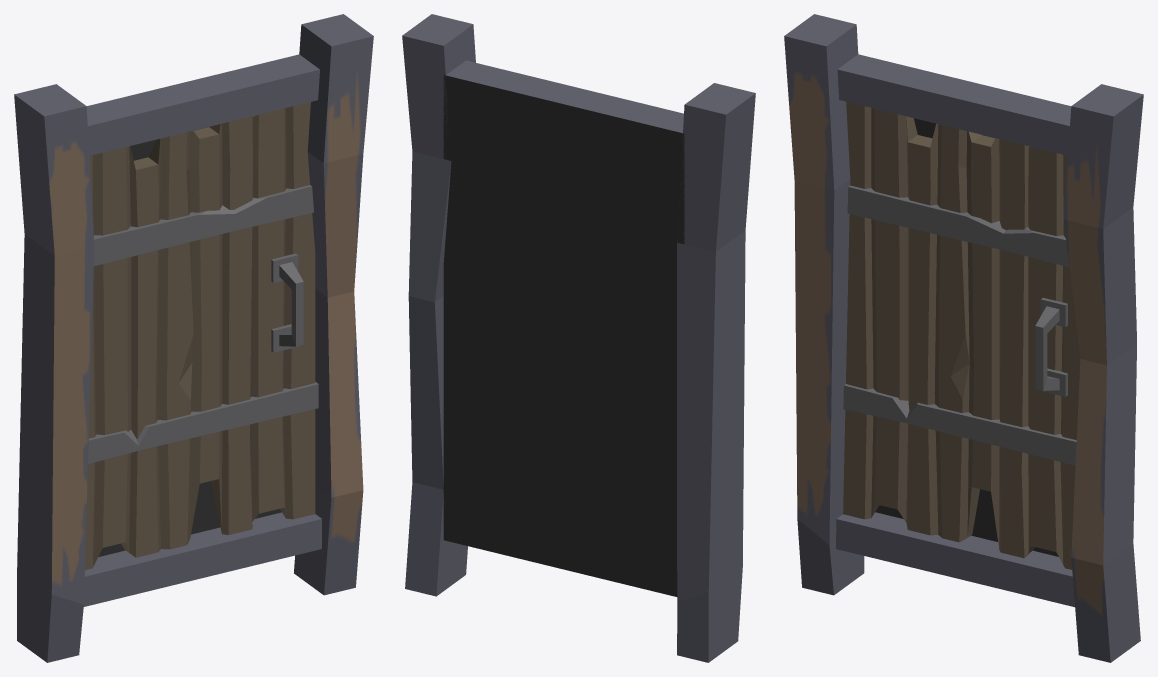
File: SM_Prop_Door_01.fbx
3 renders of one model, left to right at view 1: azimuth 30°, elevation 25°; view 2: azimuth 150°, elevation 25°; view 3: azimuth 330°, elevation 25°, orthographic.
Parts seen in each view (by area): view 1: SM_Prop_Door_01; view 2: SM_Prop_Door_01; view 3: SM_Prop_Door_01.
Boxes of the visible parts, bbox=[...] form: SM_Prop_Door_01: bbox=[14, 14, 373, 662]; SM_Prop_Door_01: bbox=[402, 14, 755, 662]; SM_Prop_Door_01: bbox=[784, 14, 1143, 662].
Bounding box in the file's own units: 1.46 × 2.35 × 0.291.
